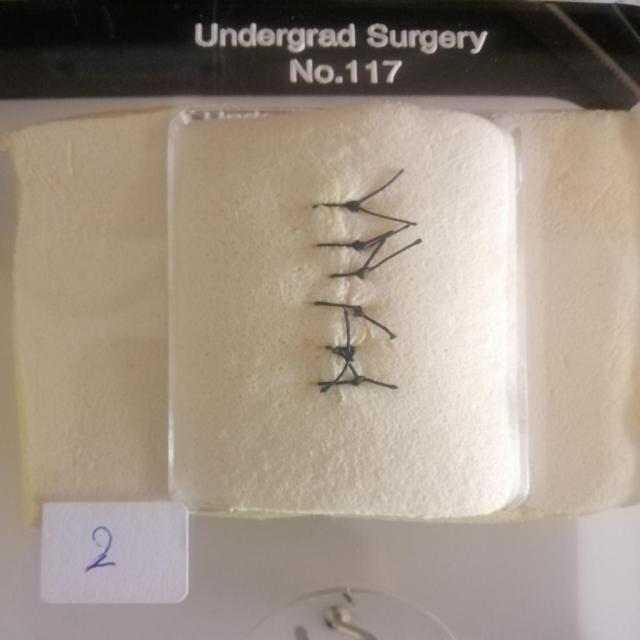knot: (351, 240, 366, 251), (357, 267, 370, 279), (351, 376, 365, 387), (347, 201, 360, 212), (355, 306, 365, 317), (344, 346, 356, 353)
leftover: (358, 237, 424, 274), (350, 167, 406, 208), (318, 345, 355, 394), (354, 222, 412, 250), (350, 203, 419, 226), (353, 305, 398, 339), (357, 236, 388, 274), (328, 348, 361, 383), (355, 228, 395, 247), (360, 378, 400, 390), (342, 306, 351, 350), (352, 306, 363, 319)
stitch: (310, 301, 363, 311), (327, 269, 367, 280), (309, 202, 362, 210), (314, 378, 367, 386), (315, 242, 367, 248), (328, 345, 359, 351)
wound: (333, 180, 350, 405)
